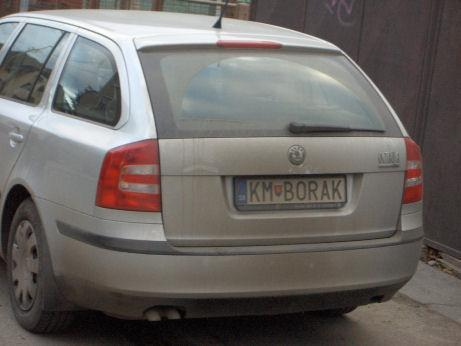placa de veiculo: (231, 167, 356, 224)
